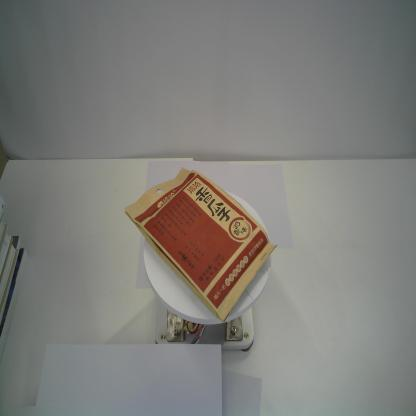Dried Food: (122, 165, 281, 327)
